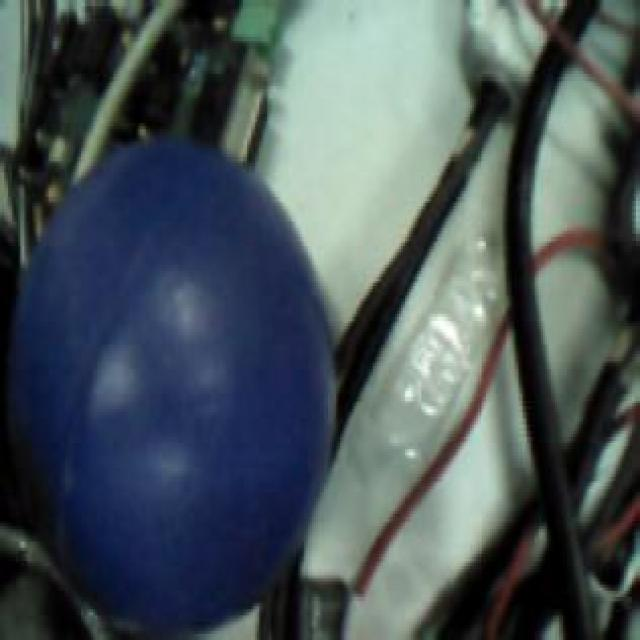BallPurple: (16, 138, 337, 631)
